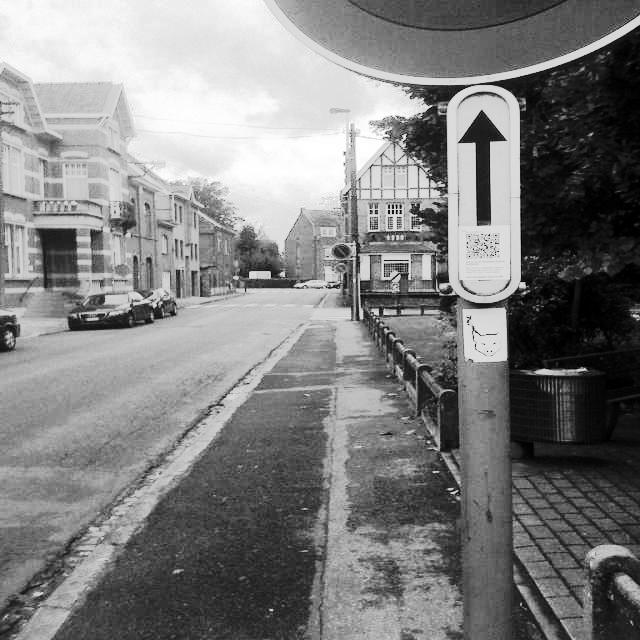qr_code: (466, 233, 499, 258)
